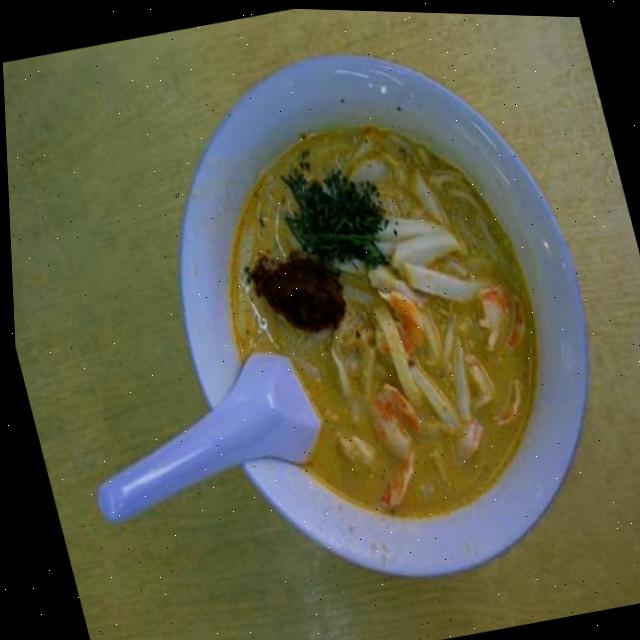面条主食: (125, 19, 629, 605)
